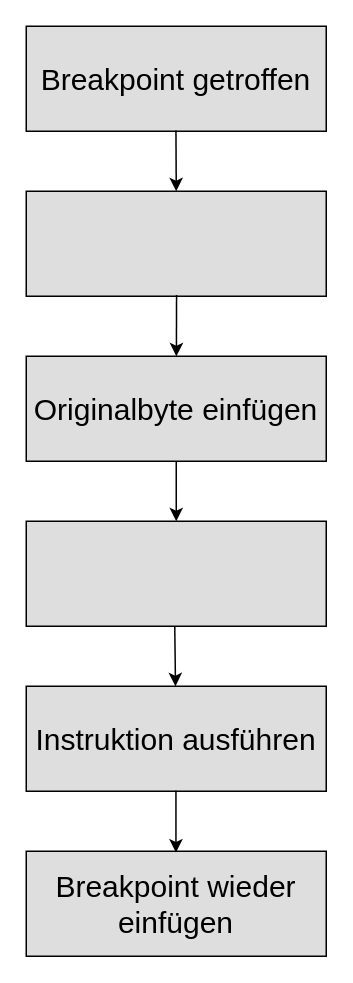
Image size: 353x983. Some labels were removed from this diagram. Each missing label, with the box of its shape:
Instruction Pointer anpassen: (25, 190, 326, 296)
Trap Flag setzen: (25, 520, 326, 626)
